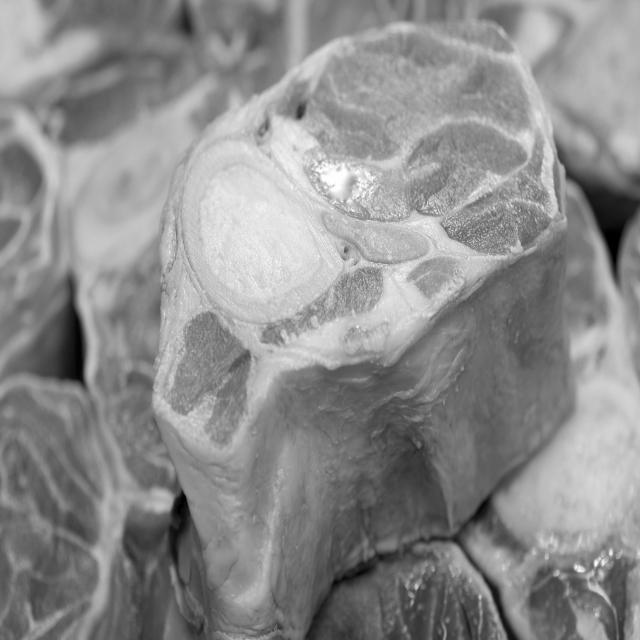ham hock: (158, 20, 572, 635)
